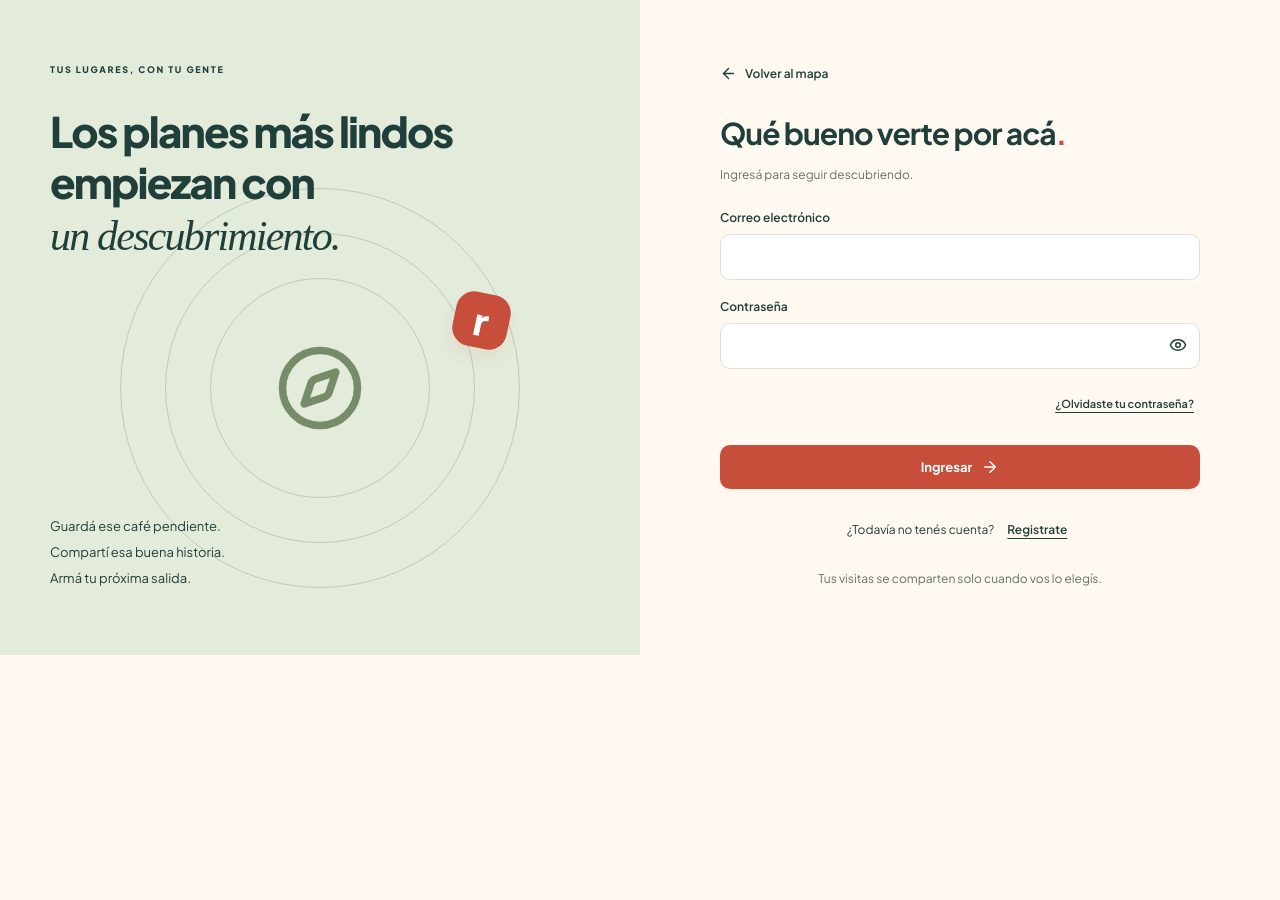
Test: Autenticación con configuración pública incluida › explica cuándo el correo necesita confirmación
The image size is (1280, 900).
Type "test@example.com" into the field labelled "Correo electrónico".
click(960, 257); type("test@example.com")  # box [720,234,1200,280]
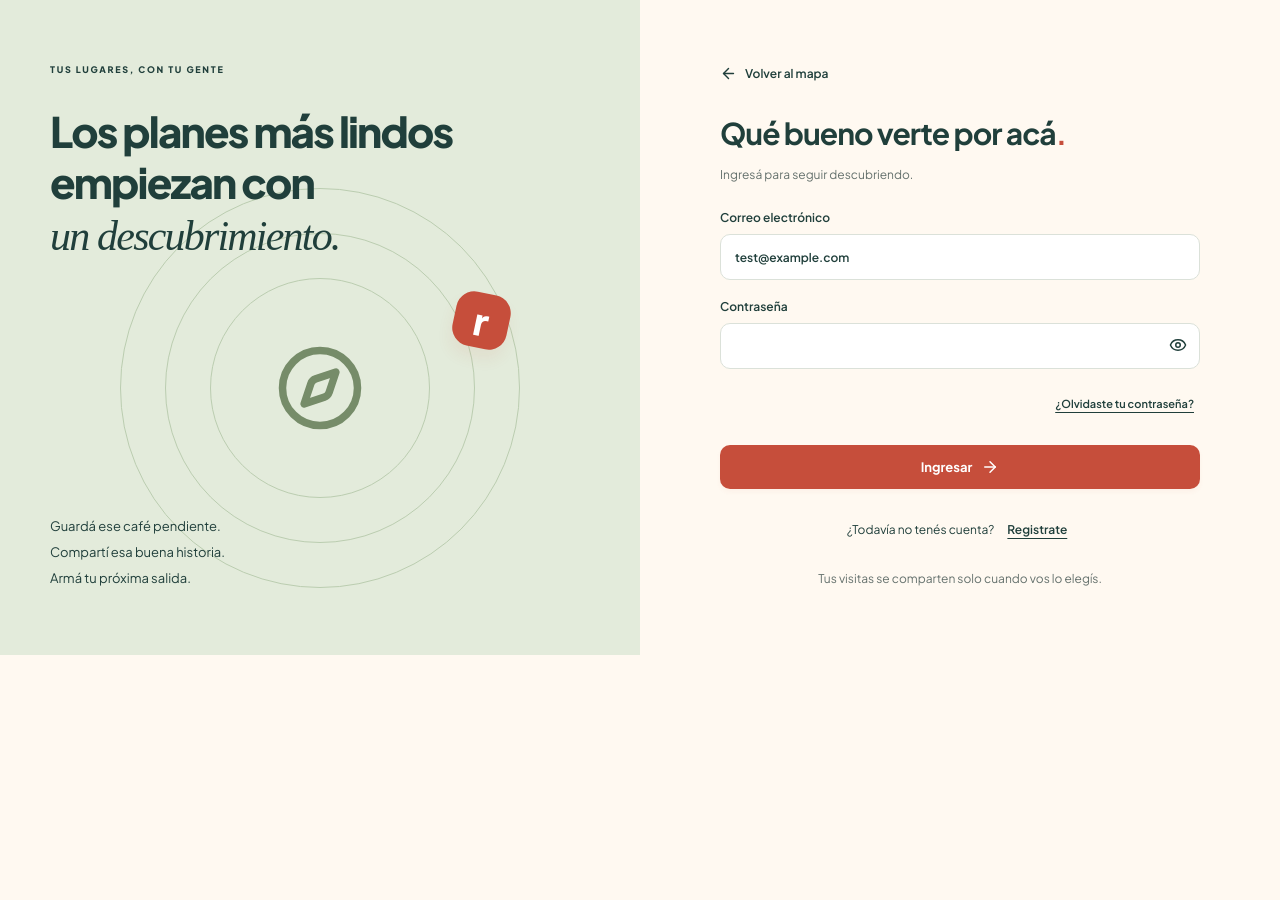
Type "only-for-test-123" into the password field labelled "Contraseña".
click(960, 346); type("only-for-test-123")  # box [720,323,1200,369]
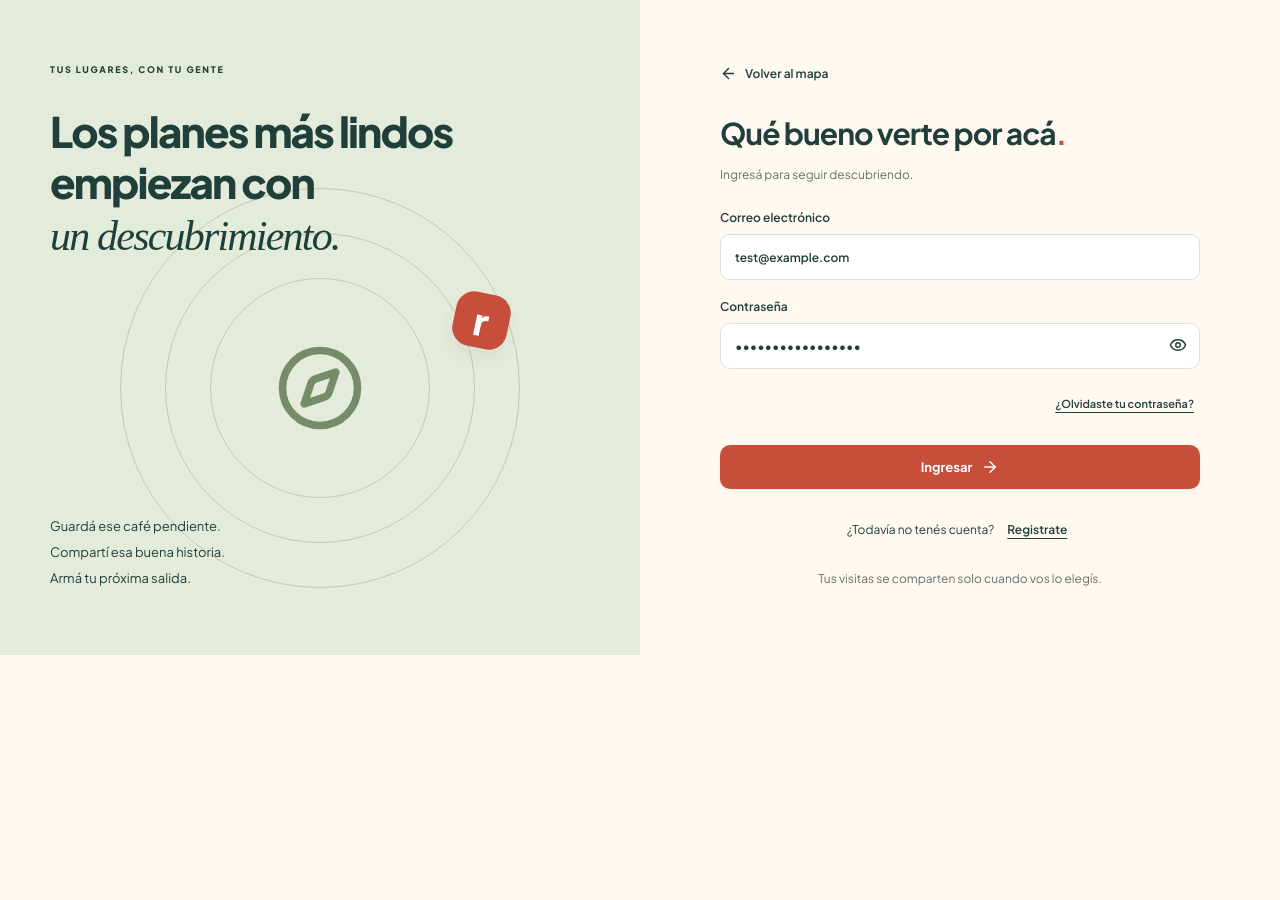
Click the button "Ingresar".
click(960, 467)  # box [720,445,1200,489]
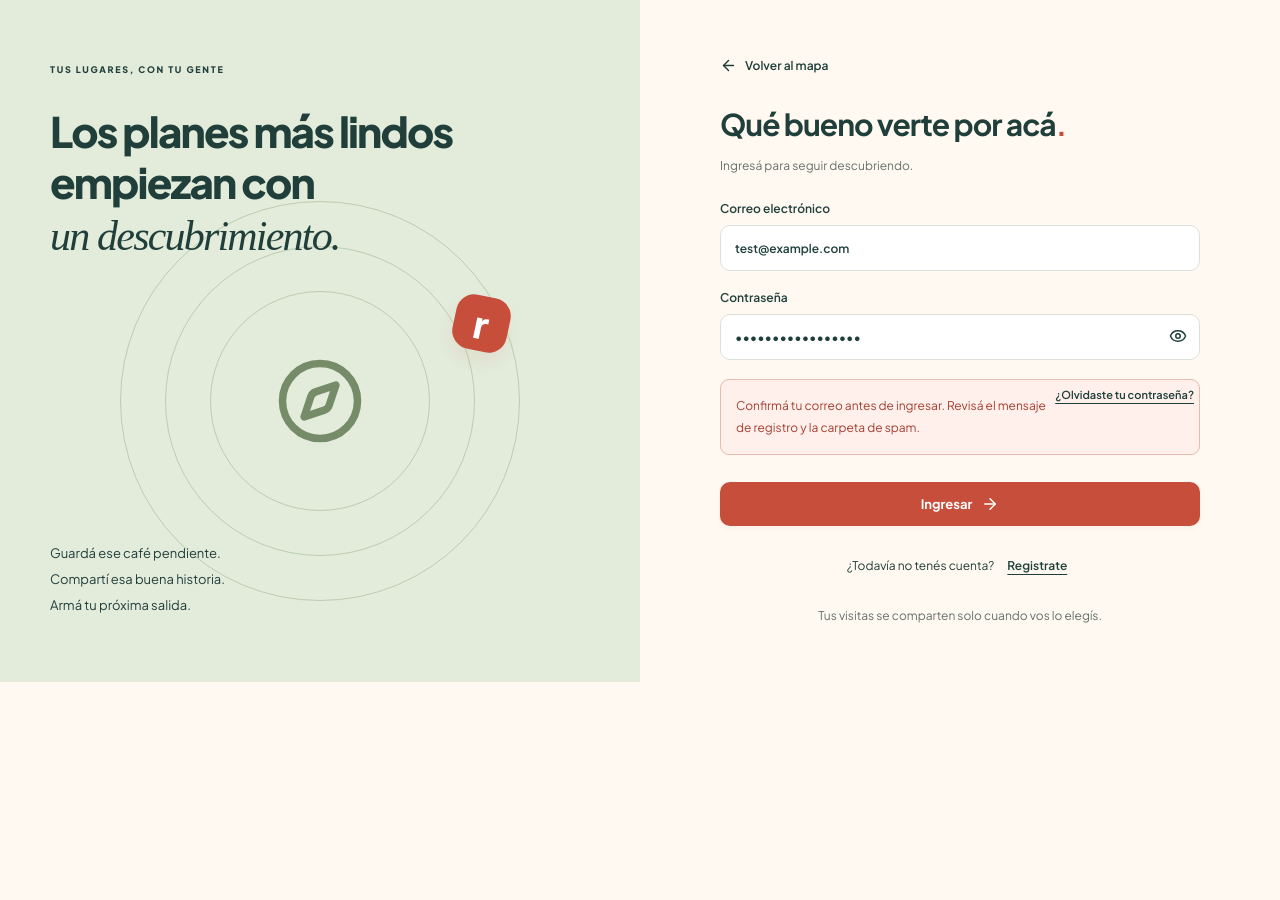
Expected: the text "Confirmá tu correo antes de ingresar" is shown, [736,398,1046,435]
